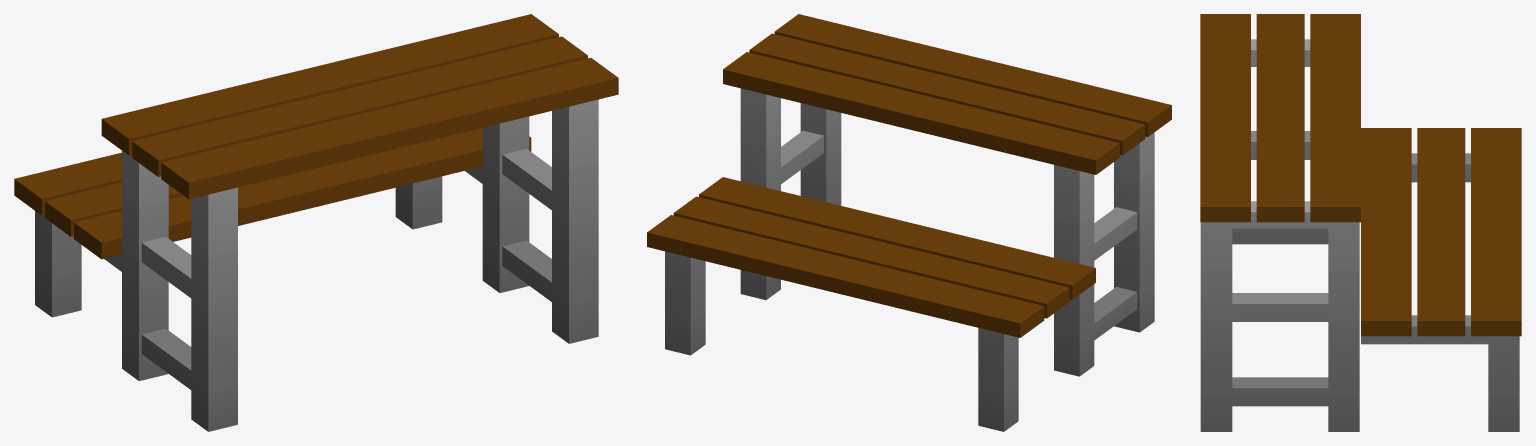
File: Bench_1_D_2.fbx
The picture shows the model from 3 angles, left to right: view 1: azimuth 30°, elevation 25°; view 2: azimuth 150°, elevation 25°; view 3: azimuth 270°, elevation 25°; orthographic projection. The views are drawn at different scales.
Parts seen in each view (by area): view 1: Bench_1_D_2; view 2: Bench_1_D_2; view 3: Bench_1_D_2.
Part boxes in pixels (box(x1,y1,x2,y2)): Bench_1_D_2: box(14, 14, 618, 431); Bench_1_D_2: box(647, 14, 1171, 431); Bench_1_D_2: box(1200, 14, 1521, 431).
Size of the model in its own units: 116 by 65.4 by 81.37.
